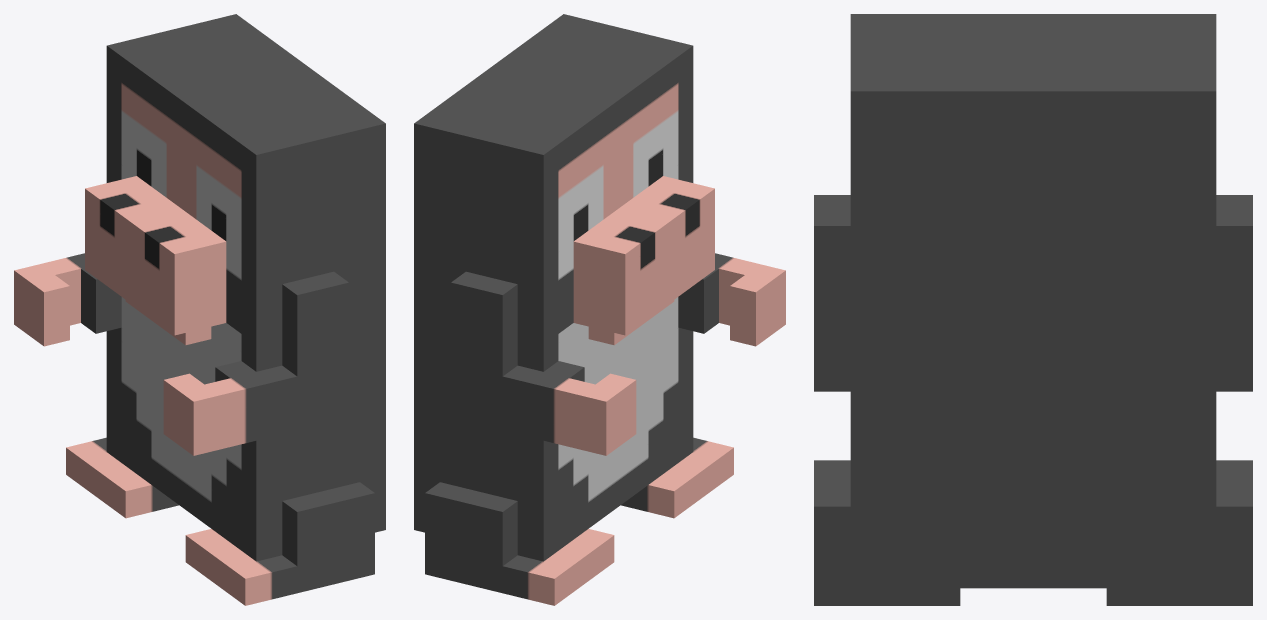
Rendered from chapter3_gorilla_10.fbx.
3 views of the same model, side by side, from view 1: azimuth 30°, elevation 25°; view 2: azimuth 150°, elevation 25°; view 3: azimuth 270°, elevation 25° (orthographic). The views are drawn at different scales.
Visible parts, largest first — view 1: Box; view 2: Box; view 3: Box.
Part boxes in pixels (x1,y1,x2,y2): Box: (14,14,385,605); Box: (414,14,785,605); Box: (814,14,1252,605).
Size of the model in its own units: 8 by 16 by 12.
